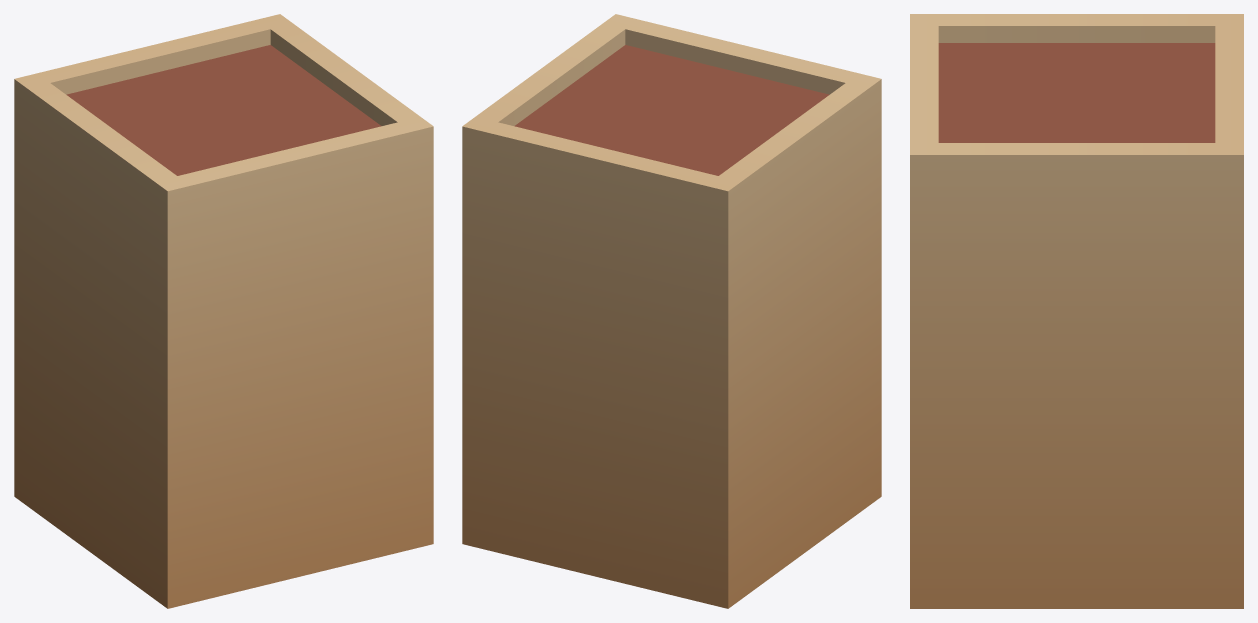
The model's file is LargeHouse01.fbx.
3 renders of one model, left to right at view 1: azimuth 30°, elevation 25°; view 2: azimuth 150°, elevation 25°; view 3: azimuth 270°, elevation 25°, orthographic. The views are drawn at different scales.
Visible parts, largest first — view 1: LargeHouse01; view 2: LargeHouse01; view 3: LargeHouse01.
Boxes of the visible parts, box(x1,y1,x2,y2) form: LargeHouse01: box(14, 14, 433, 608); LargeHouse01: box(462, 14, 881, 608); LargeHouse01: box(910, 14, 1243, 608).
Bounding box in the file's own units: 2 × 3 × 2.
1 material, 1 textured.
